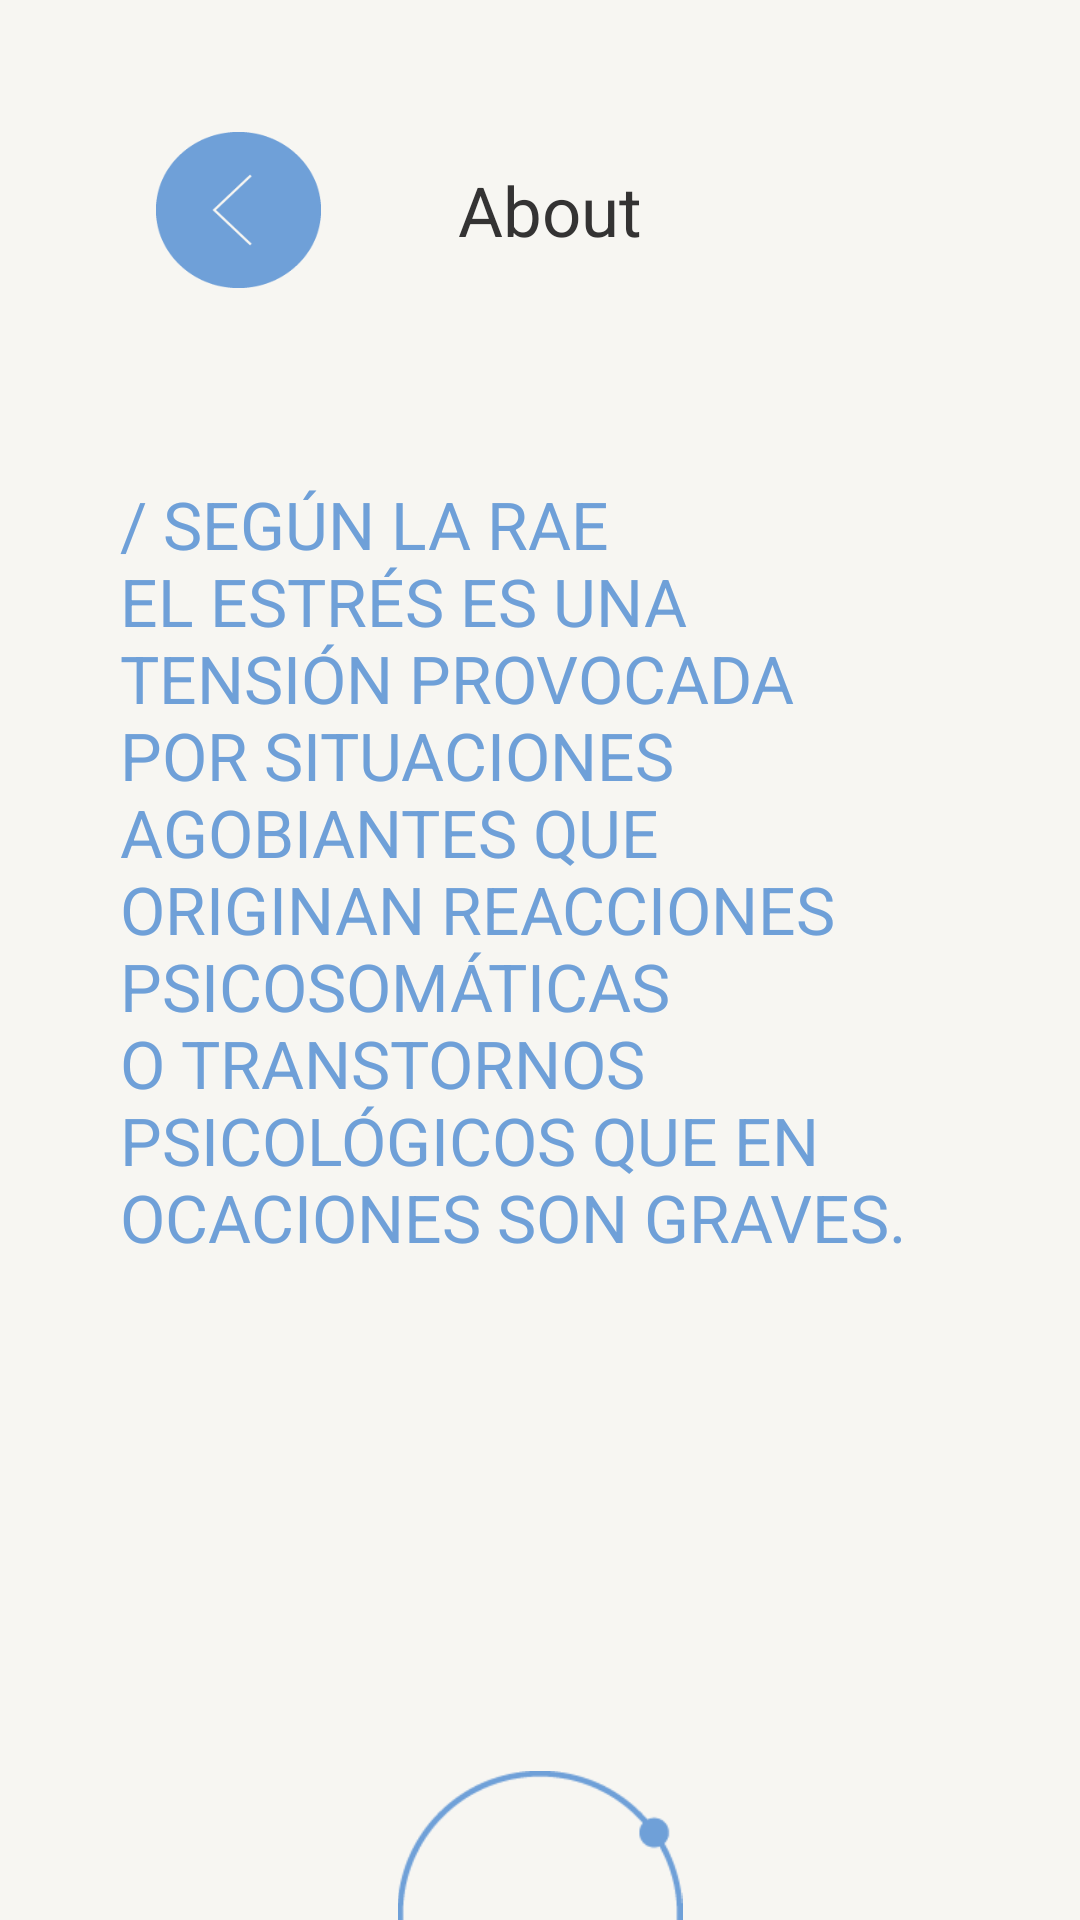

Where icons sit on this 1080w x 1920h app screen, as (x1, y1, x2, y2):
regresar xxxdpi: (156, 132, 321, 288)
